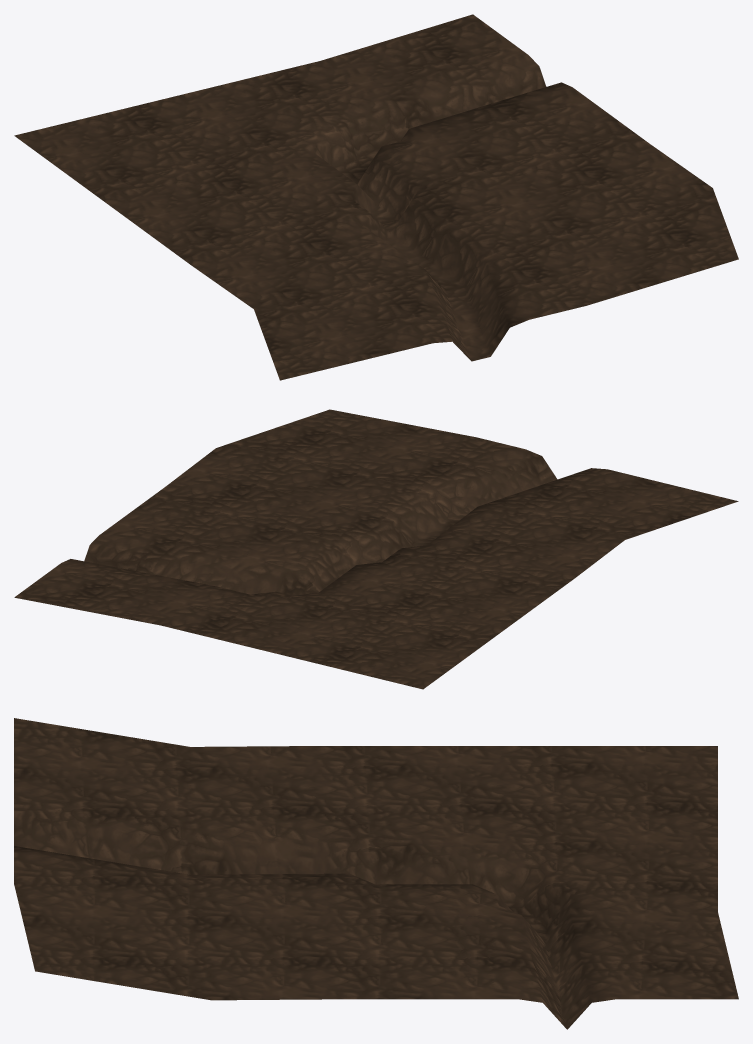
File: Ground.fbx
3 renders of one model, top to bottom at view 1: azimuth 30°, elevation 25°; view 2: azimuth 150°, elevation 25°; view 3: azimuth 270°, elevation 25°, orthographic. The views are drawn at different scales.
Parts seen in each view (by area): view 1: Plane; view 2: Plane; view 3: Plane.
Part boxes in pixels (left/top/right/bottom): Plane: left=14, top=14, right=738, bottom=380; Plane: left=14, top=409, right=738, bottom=689; Plane: left=14, top=718, right=738, bottom=1029.
Size of the model in its own units: 10846 by 550 by 11770.
